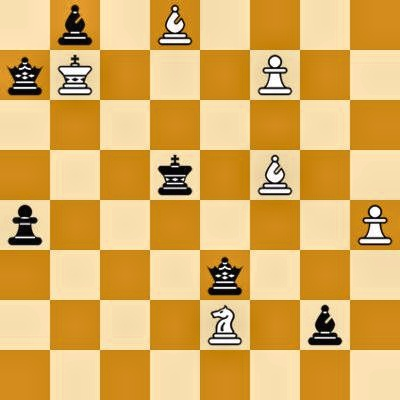black-bishop: (50, 0, 100, 50), (300, 300, 350, 350)
black-king: (150, 150, 200, 200)
black-pawn: (0, 200, 50, 250)
black-queen: (0, 50, 50, 100), (200, 250, 250, 300)
white-bishop: (150, 0, 200, 50), (250, 150, 300, 200)
white-king: (50, 50, 100, 100)
white-knight: (200, 300, 250, 350)
white-pawn: (250, 50, 300, 100), (350, 200, 400, 250)
